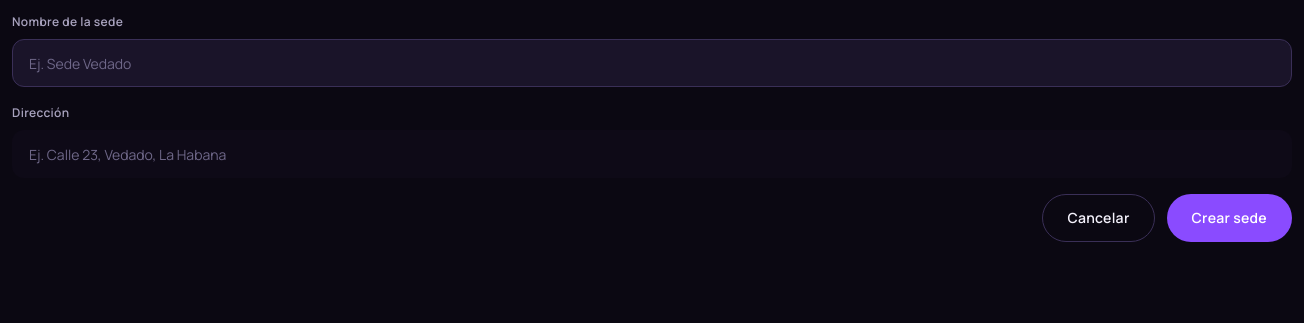
Test case: SiteForm › submits trimmed site values and displays API errors
The width and height of the screenshot is (1304, 323).
In the field labelled "Nombre de la sede": (652, 63) [12,39,1292,87], type "  Sede Centro  "
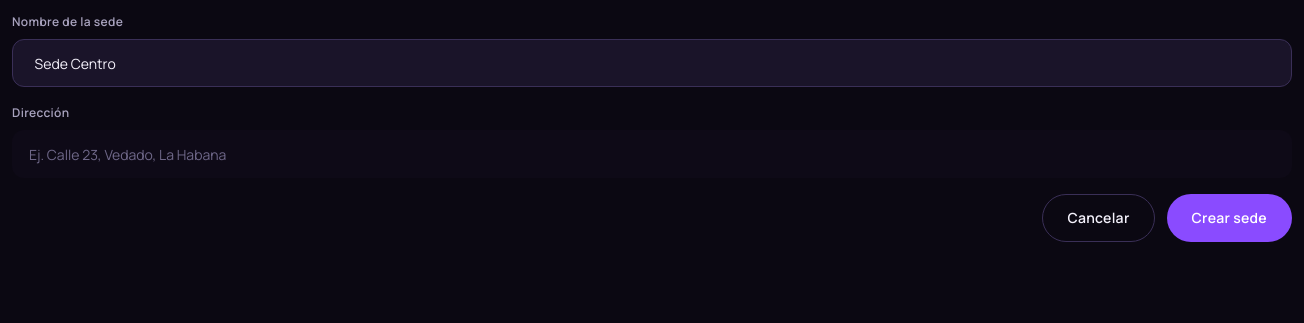
In the field labelled "Dirección": (652, 154) [12,130,1292,178], type "  Calle 10  "
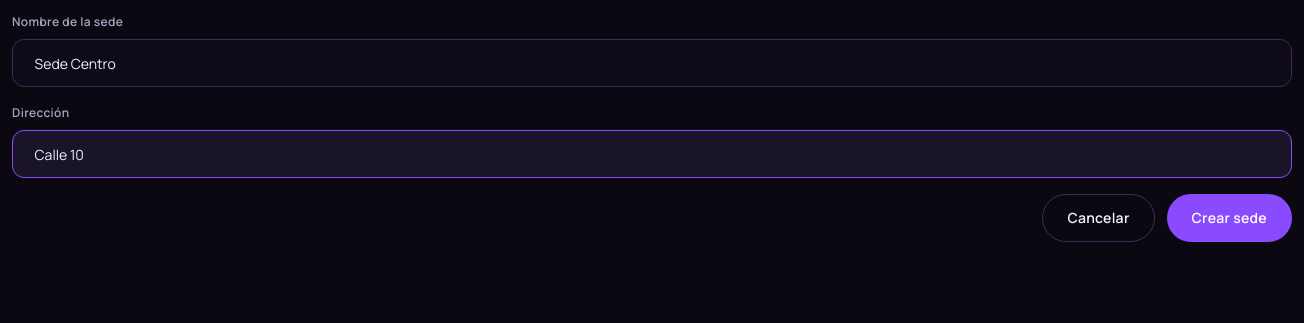
Click the button "Crear sede": click(1229, 218) [1167,194,1292,242]
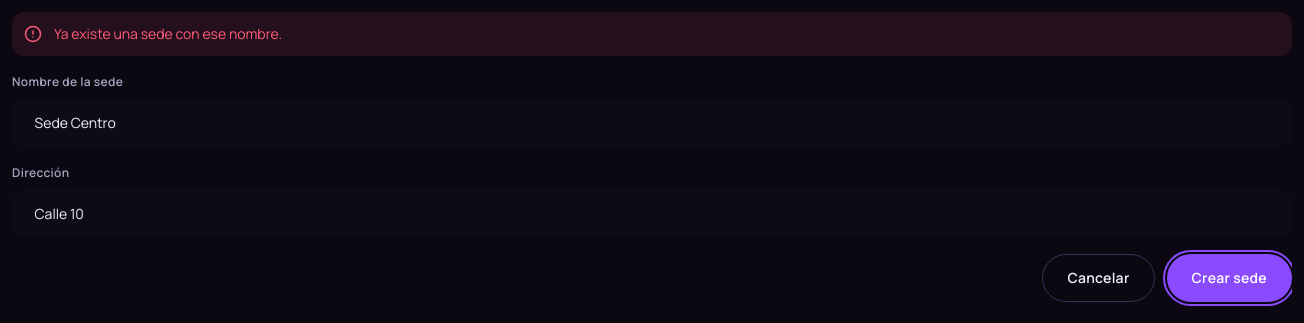
Now the message reads "Ya existe una sede con ese nombre.", box [54,24,282,43]
